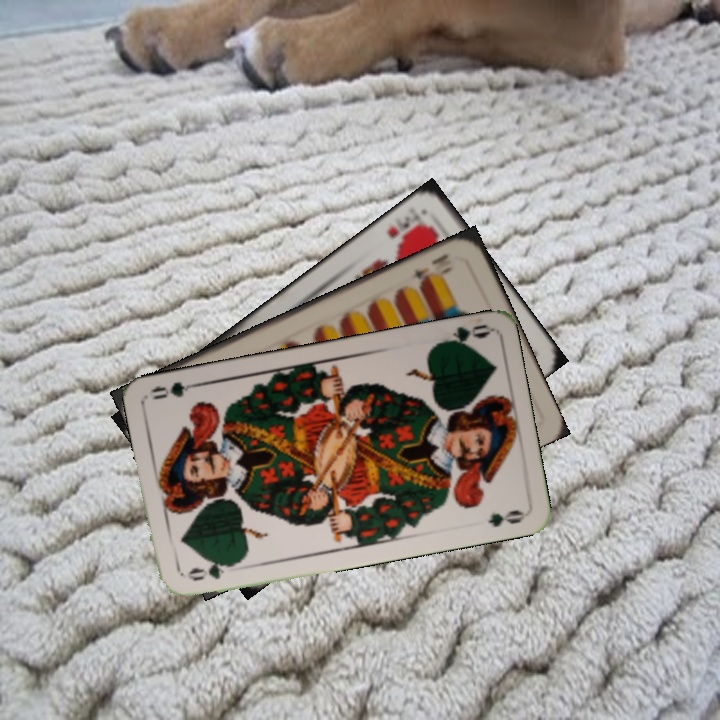E10: (404, 249, 452, 289)
GO: (433, 320, 491, 349), (183, 558, 239, 584)
HK: (383, 210, 424, 242)
